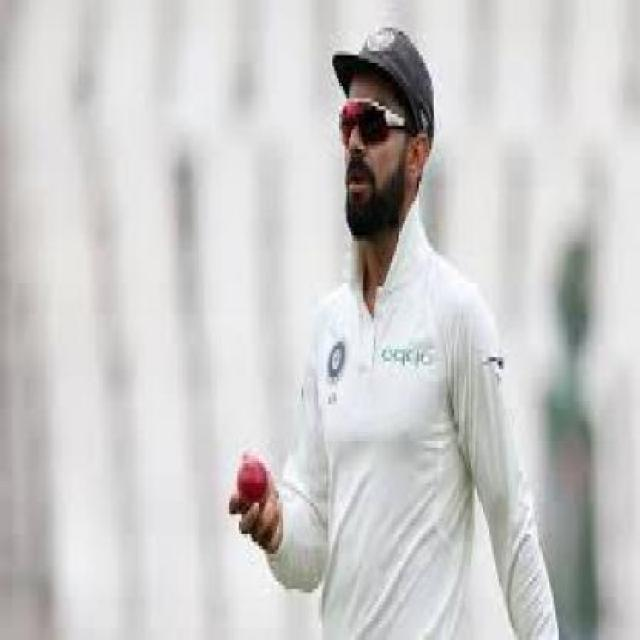ball: (191, 437, 305, 527)
